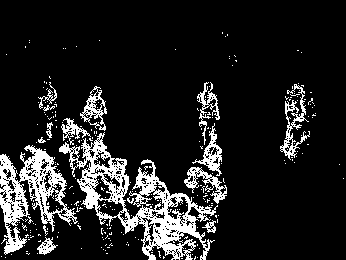person: (20, 144, 80, 254), (82, 142, 132, 249), (142, 193, 208, 260), (186, 143, 232, 222), (1, 152, 34, 255), (127, 159, 173, 227), (281, 82, 312, 162), (58, 115, 87, 188), (195, 79, 223, 148), (81, 84, 108, 140), (36, 76, 57, 142)
